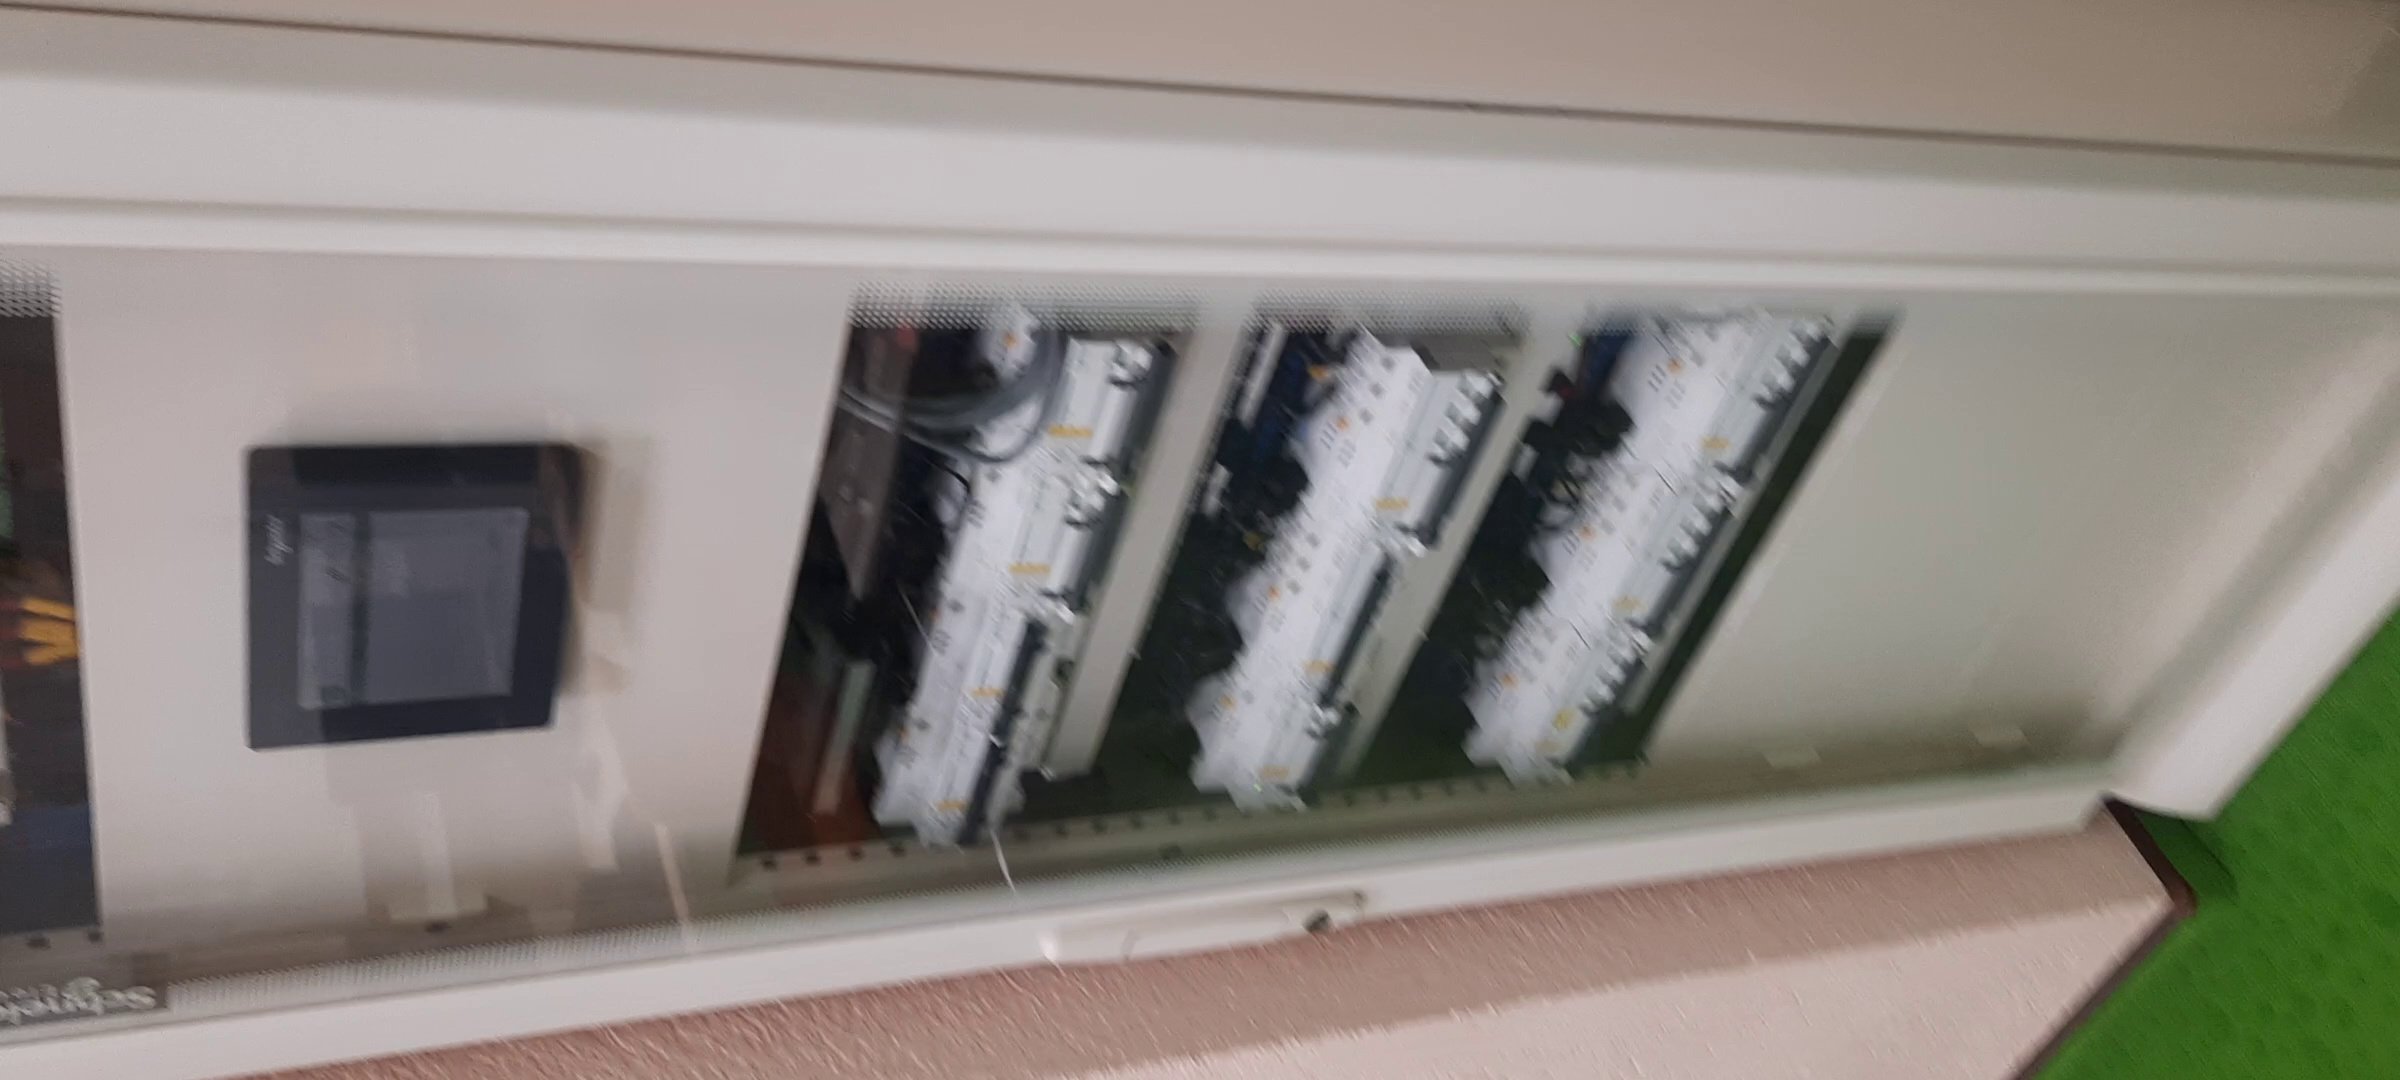smart_stand: (2, 158, 2400, 925)
